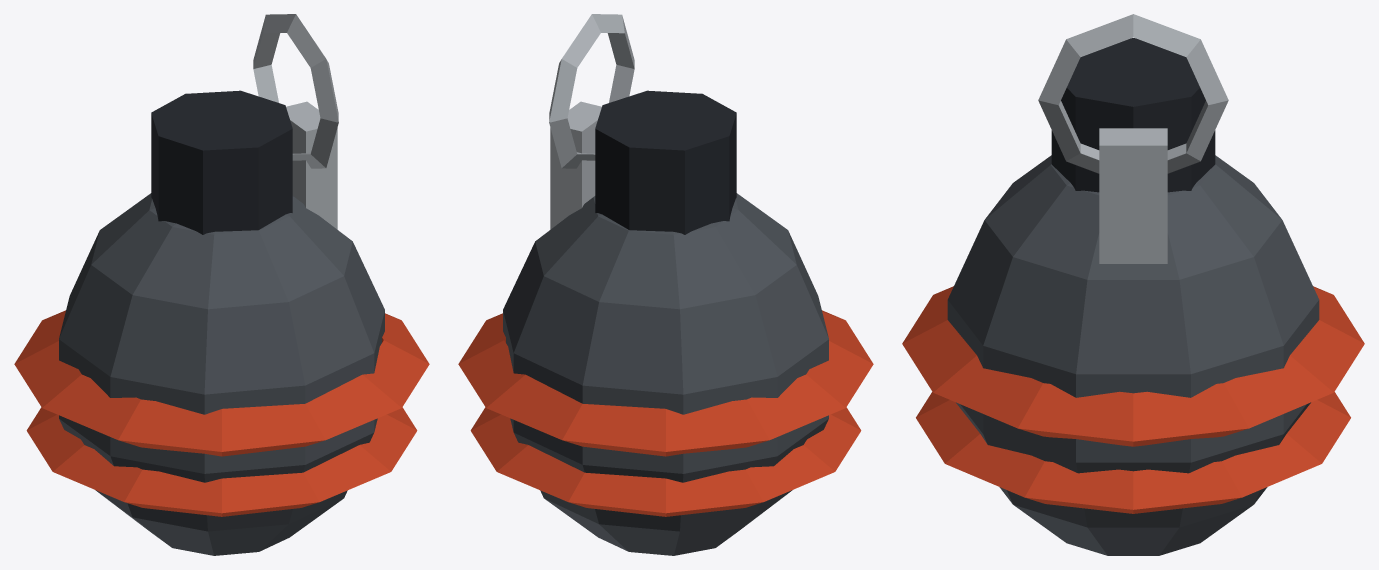
The model's file is grenade-incendiary.glb.
3 views of the same model, side by side, from view 1: azimuth 30°, elevation 25°; view 2: azimuth 150°, elevation 25°; view 3: azimuth 270°, elevation 25° (orthographic). The views are drawn at different scales.
Parts seen in each view (by area): view 1: m; view 2: m; view 3: m.
Part boxes in pixels (<box>): m: <box>14,14,429,555</box>; m: <box>458,14,873,555</box>; m: <box>902,14,1364,555</box>.
Size of the model in its own units: 0.059 by 0.08 by 0.059.
